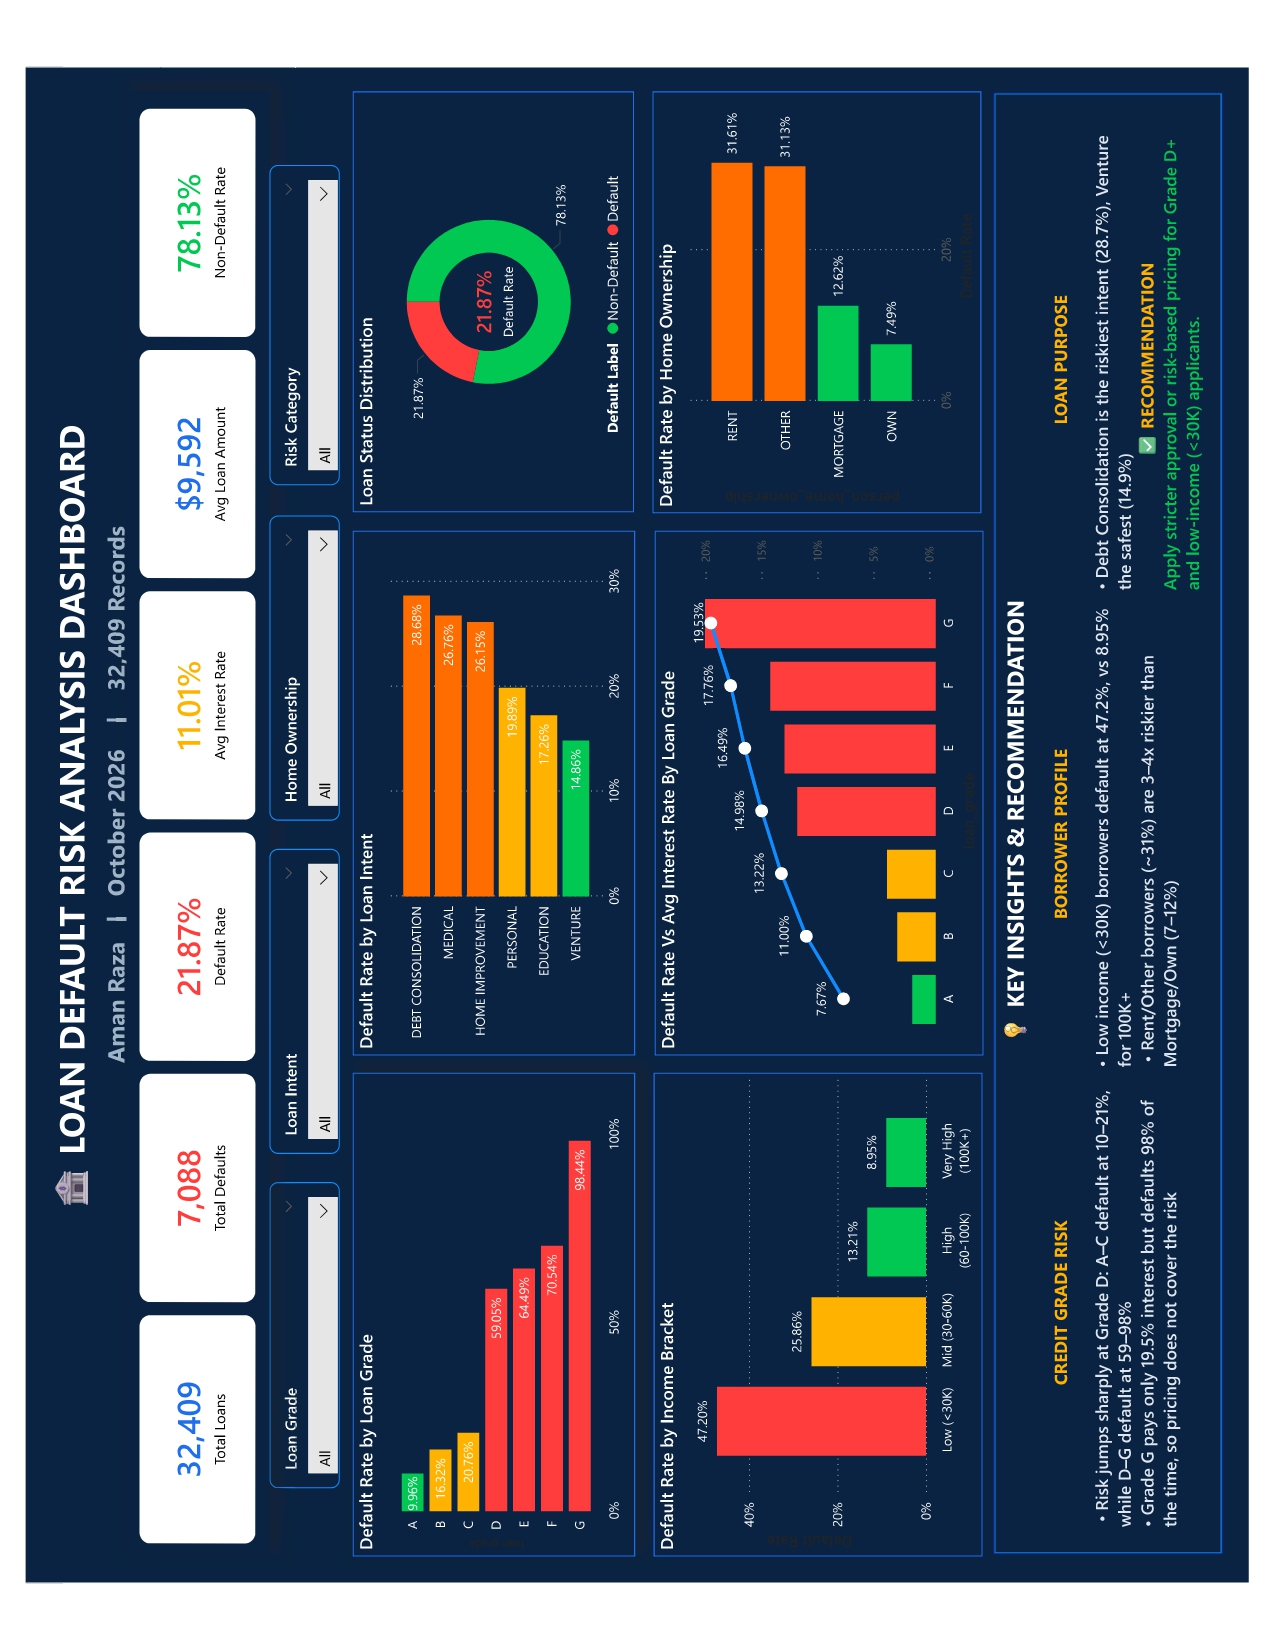

This screenshot's page, from the dashboard's own definition file:
{"tool":"powerbi","page":{"name":"Page 1","canvas":[1400,1130],"ordinal":0},"visuals":[{"type":"slicer","fields":{"Values":["credit_risk_cleaned.loan_grade"]},"box":[87.5,224.7,282.3,65.6],"z":0},{"type":"donutChart","title":"Loan Status Distribution","fields":{"Category":["credit_risk_cleaned.Default_Label"],"Y":["credit_risk_cleaned.Total_Loans"]},"box":[988.9,302.2,388.9,260],"z":1000},{"type":"textbox","box":[278.4,13.9,864.9,93.4],"z":2000},{"type":"cardVisual","fields":{"Data":["credit_risk_cleaned.Total_Loans","credit_risk_cleaned.Total_Defaults","credit_risk_cleaned.Default_Rate","credit_risk_cleaned.Avg_Interest_Rate","credit_risk_cleaned.Avg_Loan_Amount","credit_risk_cleaned.Recovery_Rate"]},"box":[23.9,93.4,1354,131.2],"z":3000},{"type":"clusteredBarChart","title":"Default Rate by Loan Grade","fields":{"Category":["credit_risk_cleaned.loan_grade"],"Y":["credit_risk_cleaned.Default Rate"]},"box":[23.9,302.2,447.4,260.5],"z":4000},{"type":"clusteredBarChart","title":"Default Rate by Loan Intent","fields":{"Category":["credit_risk_cleaned.loan_intent"],"Y":["credit_risk_cleaned.Default_Rate"]},"box":[487.1,302.2,485.1,260.5],"z":5000},{"type":"clusteredColumnChart","title":"Default Rate by Income Bracket","fields":{"Category":["credit_risk_cleaned.Income_Bracket"],"Y":["credit_risk_cleaned.Default_Rate"]},"box":[24.4,580,446.7,304.4],"z":6000},{"type":"clusteredBarChart","title":"Default Rate by Home Ownership","fields":{"Category":["credit_risk_cleaned.person_home_ownership"],"Y":["credit_risk_cleaned.Default Rate"]},"box":[988.2,578.6,389.7,304.2],"z":7000},{"type":"lineClusteredColumnComboChart","title":"Default Rate Vs Avg Interest Rate By Loan Grade ","fields":{"Category":["credit_risk_cleaned.loan_grade"],"Y2":["credit_risk_cleaned.Avg Interest Rate"],"Y":["credit_risk_cleaned.Default Rate"]},"box":[487.1,580.6,485.1,304.2],"z":8000},{"type":"slicer","fields":{"Values":["credit_risk_cleaned.loan_intent"]},"box":[395.7,224.7,282.3,65.6],"z":9000},{"type":"slicer","fields":{"Values":["credit_risk_cleaned.person_home_ownership"]},"box":[703.8,224.7,282.3,65.6],"z":10000},{"type":"shape","box":[25.7,894.3,1351.4,211.4],"z":11000},{"type":"cardVisual","fields":{"Data":["credit_risk_cleaned.Default Rate"]},"box":[1121.4,391.7,125.3,79.5],"z":12000},{"type":"slicer","fields":{"Values":["credit_risk_cleaned.Risk Category"]},"box":[1014,224.7,296.3,65.6],"z":13000},{"type":"textbox","box":[491.4,894.3,440,45.7],"z":14000},{"type":"textbox","box":[45.7,940,425.7,148.6],"z":15000},{"type":"textbox","box":[471.4,940.5,440.5,147.6],"z":16000},{"type":"textbox","box":[911.9,940.5,440.5,166.7],"z":17000}]}

Visuals, with their boxes on the page's 1400x1130 design canvas (x1, y1, x2, y2). These are canvas units, not pixel positions in the 1275x1650 screenshot, which may show the page scaled, cropped or inside an application window:
slicer - credit_risk_cleaned.loan_grade: [88,225,370,290]
"Loan Status Distribution" donutChart: [989,302,1378,562]
textbox: [278,14,1143,107]
cardVisual - credit_risk_cleaned.Total_Loans x credit_risk_cleaned.Total_Defaults: [24,93,1378,225]
"Default Rate by Loan Grade" clusteredBarChart: [24,302,471,563]
"Default Rate by Loan Intent" clusteredBarChart: [487,302,972,563]
"Default Rate by Income Bracket" clusteredColumnChart: [24,580,471,884]
"Default Rate by Home Ownership" clusteredBarChart: [988,579,1378,883]
"Default Rate Vs Avg Interest Rate By Loan Grade " lineClusteredColumnComboChart: [487,581,972,885]
slicer - credit_risk_cleaned.loan_intent: [396,225,678,290]
slicer - credit_risk_cleaned.person_home_ownership: [704,225,986,290]
shape: [26,894,1377,1106]
cardVisual - credit_risk_cleaned.Default Rate: [1121,392,1247,471]
slicer - credit_risk_cleaned.Risk Category: [1014,225,1310,290]
textbox: [491,894,931,940]
textbox: [46,940,471,1089]
textbox: [471,940,912,1088]
textbox: [912,940,1352,1107]
